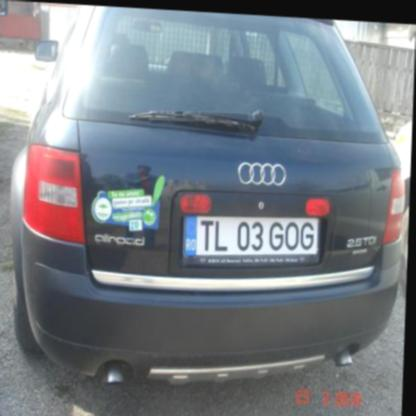License_Plate: (182, 211, 322, 274)
